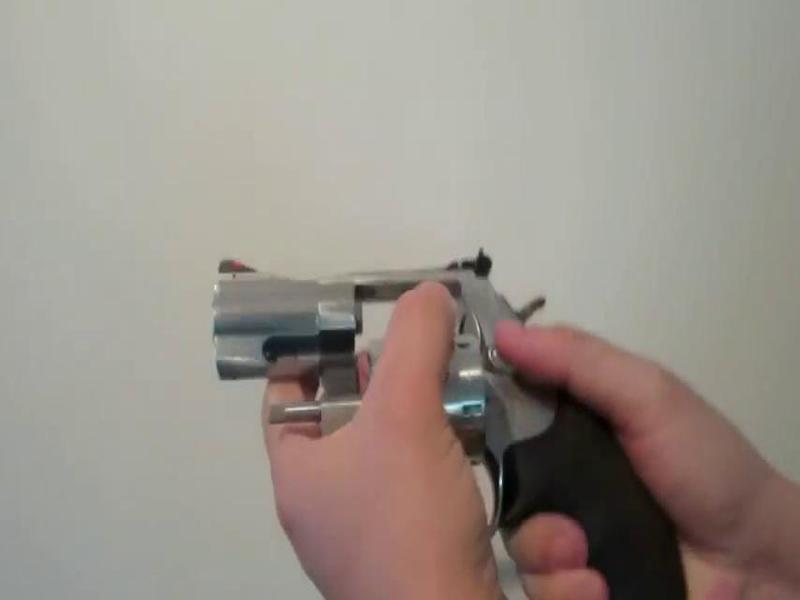Revolver: (188, 225, 708, 600)
